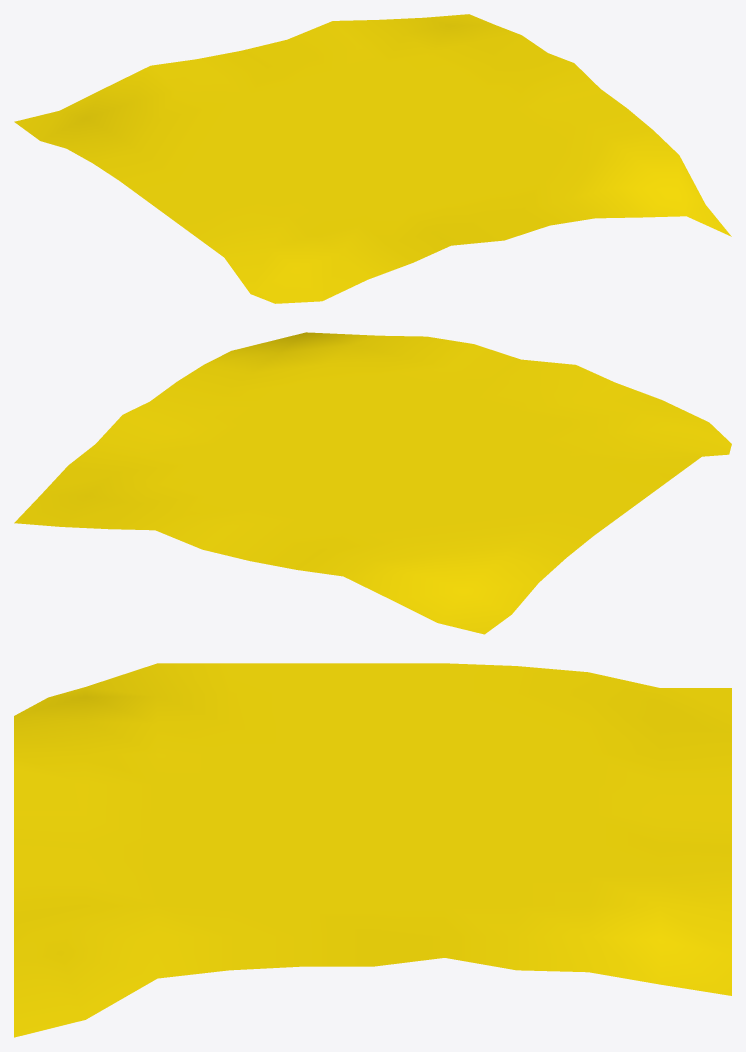
The model's file is Queso.glb.
3 renders of one model, top to bottom at view 1: azimuth 30°, elevation 25°; view 2: azimuth 150°, elevation 25°; view 3: azimuth 270°, elevation 25°, orthographic. The views are drawn at different scales.
Parts seen in each view (by area): view 1: Plane; view 2: Plane; view 3: Plane.
Boxes of the visible parts, x1,y1,x2,y2 form: Plane: (14,14,731,303); Plane: (14,332,731,634); Plane: (14,663,731,1037).
Bounding box in the file's own units: 6.87 × 0.8623 × 6.87.
